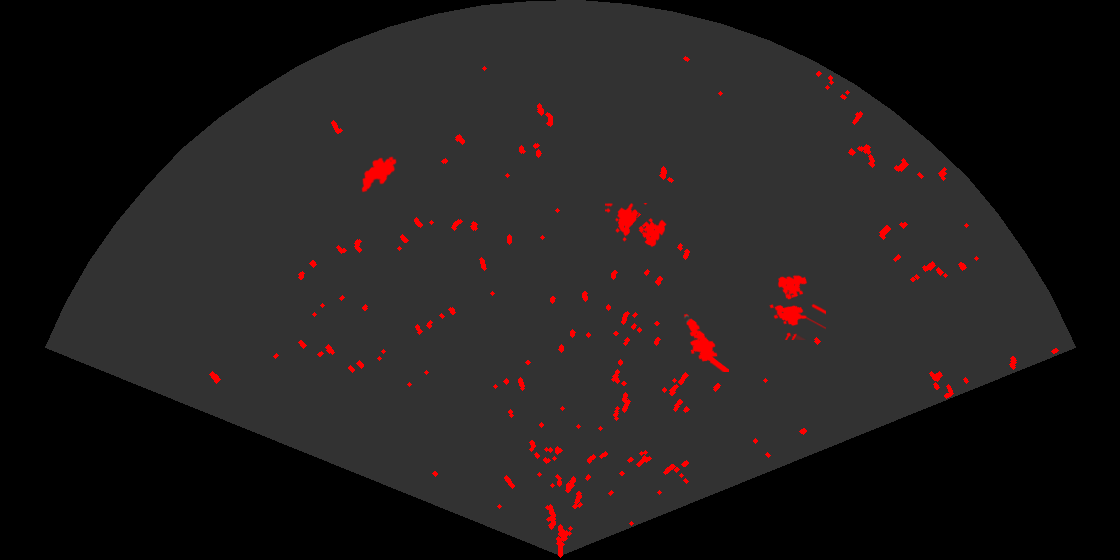AUV: (360, 155, 398, 194)
cage: (768, 273, 826, 340), (605, 203, 668, 249)
frogman: (682, 312, 729, 372)
